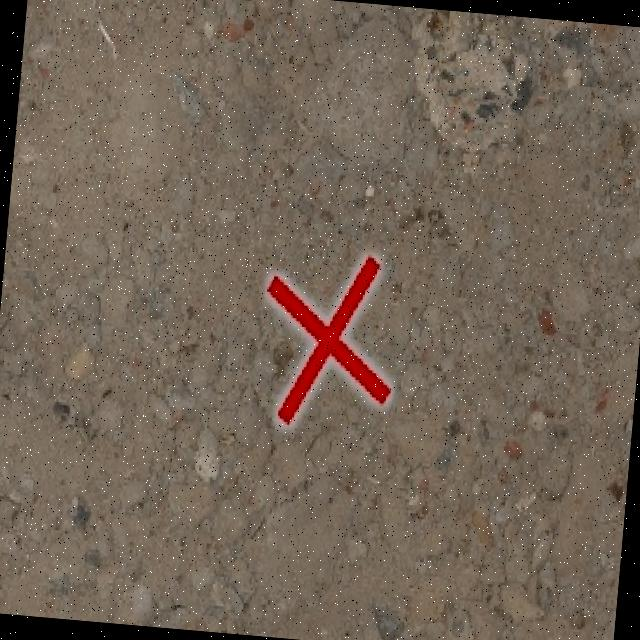x_marker: (256, 248, 401, 432)
